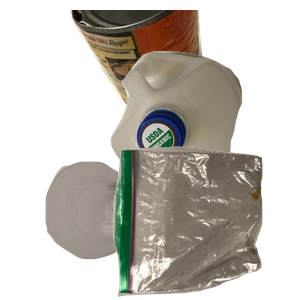glass: (43, 159, 187, 300)
metal: (68, 10, 265, 131)
plastic: (108, 49, 300, 226)
trash: (110, 144, 300, 300)
